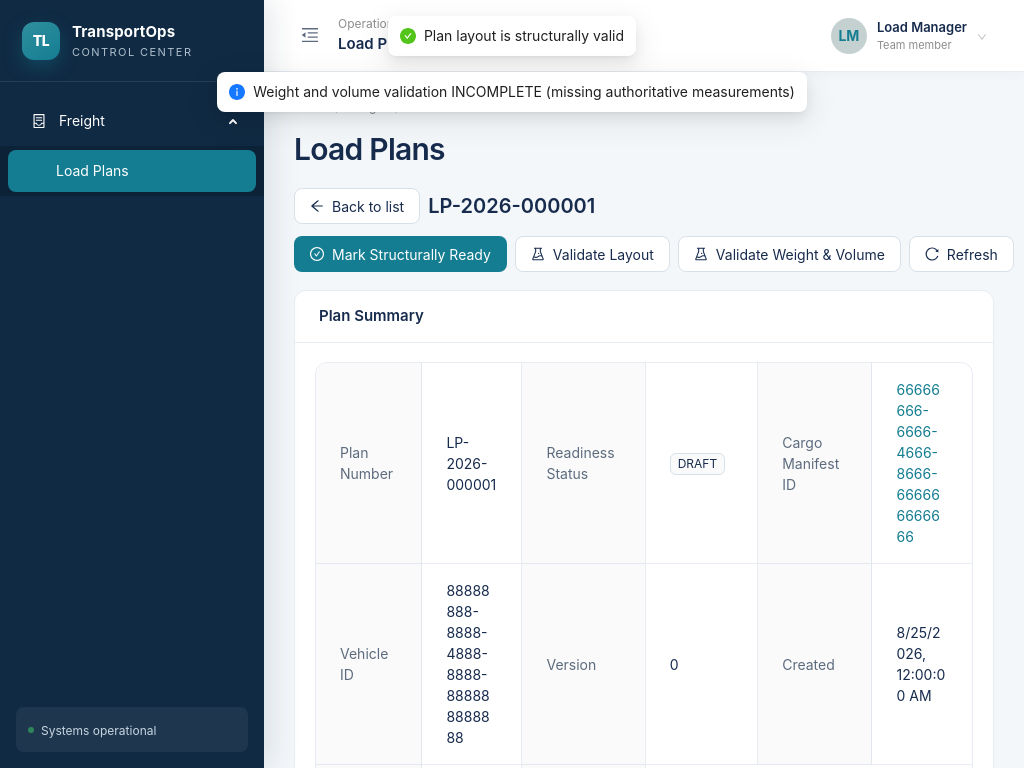
Load planning pages › marks load plan structurally ready and reflects updated status and audit
Expected: the heading "LP-2026-000001" is shown, [428,192,595,220]
Click the button "Mark Structurally Ready" at (400, 254), box [294,236,507,272]
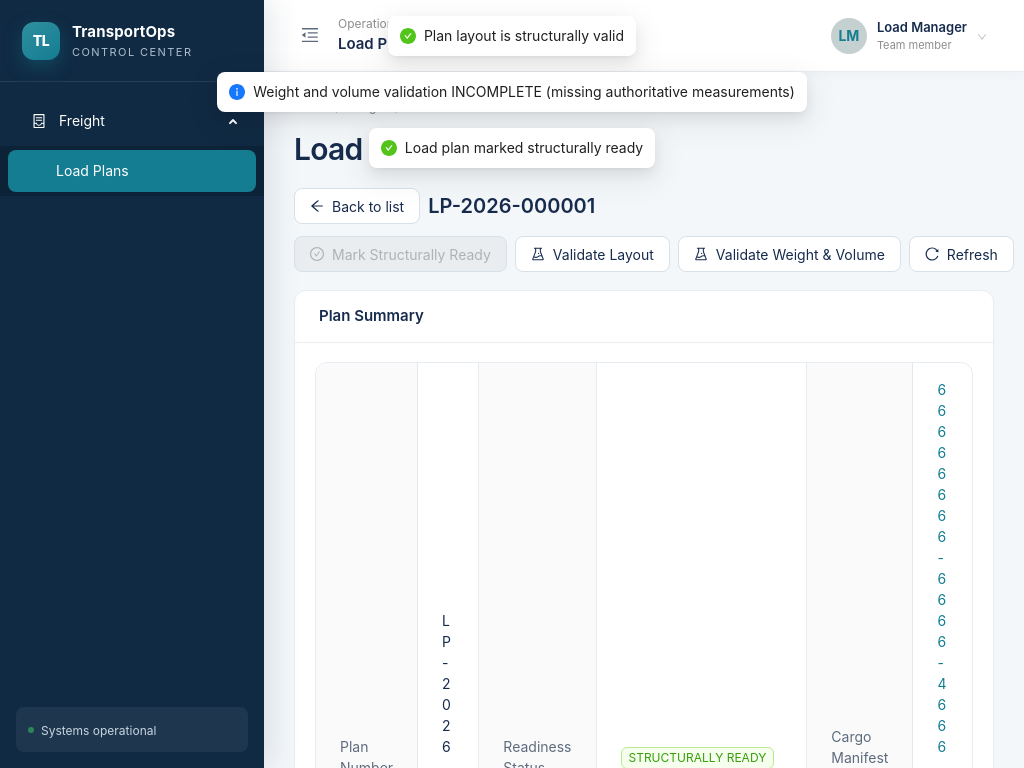
Result: the text "STRUCTURALLY READY" is shown at [620,746,774,767]
